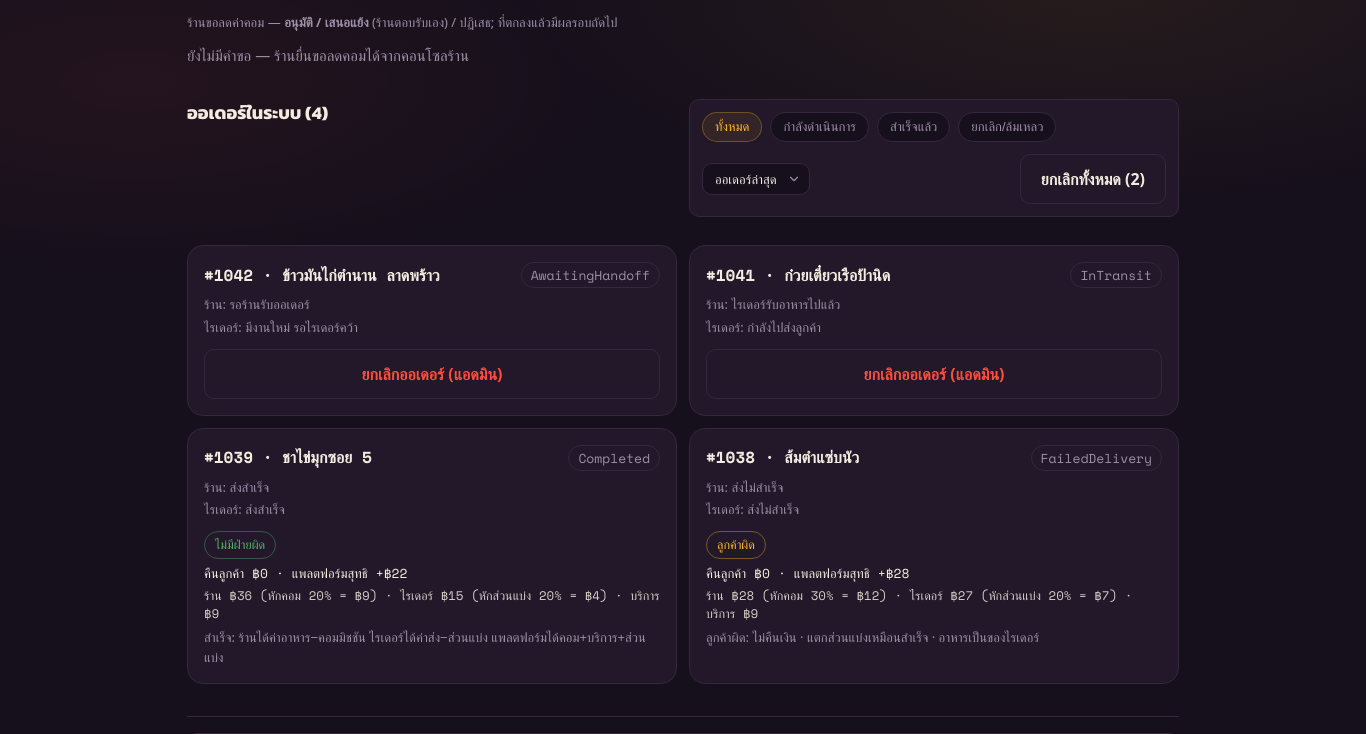
Admin — หลายออเดอร์ + suspend + force-cancel › force-cancel: ยกเลิกออเดอร์ที่ยังดำเนินอยู่ → กลายเป็น CancelledByAdmin
The width and height of the screenshot is (1366, 734).
(page scrolled)
Click the button with aria-label "ยกเลิกออเดอร์ #1042" at (432, 374), box top-left (204, 349), bottom-right (660, 399)
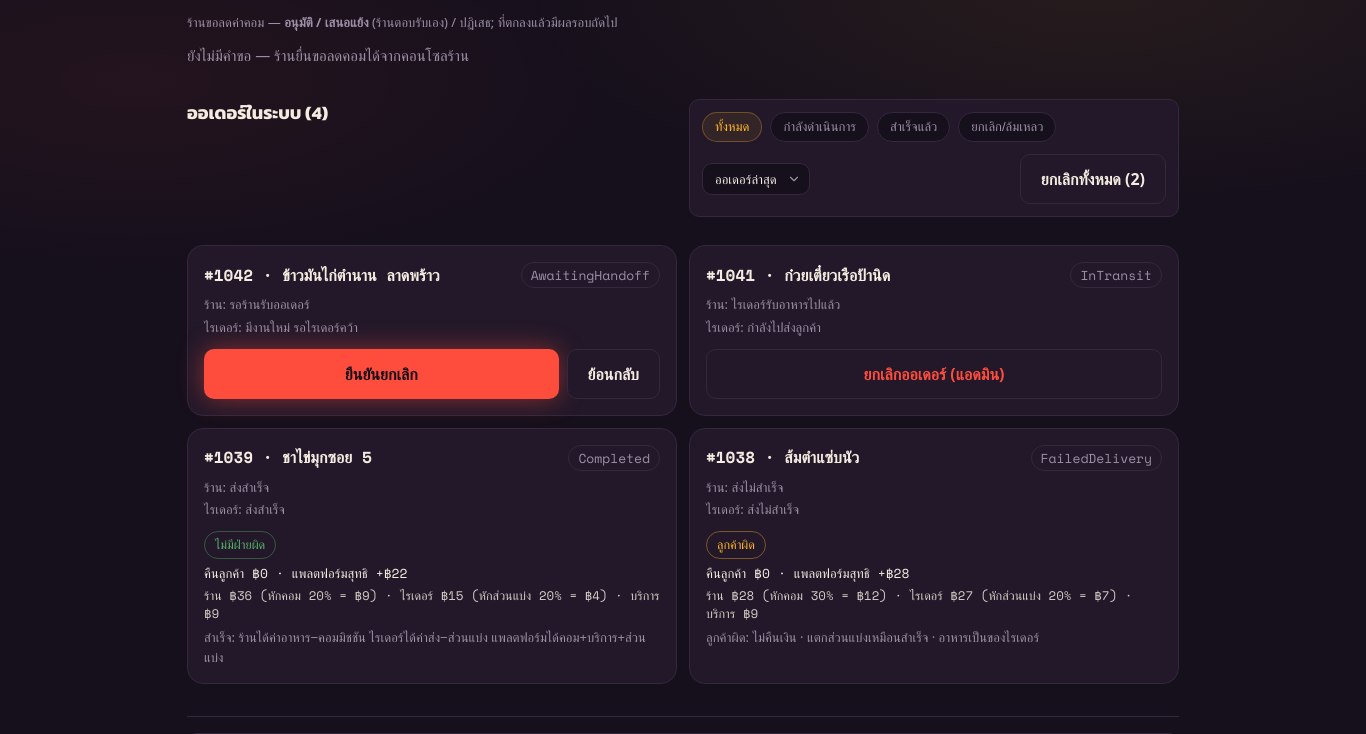
// ยืนยัน inline สองจังหวะ: กดครั้งแรกยังไม่ทำจริง — ต้องกด "ยืนยัน"
Click the button with aria-label "ยืนยันยกเลิกออเดอร์ #1042" at (381, 374), box top-left (204, 349), bottom-right (559, 399)
(page scrolled)
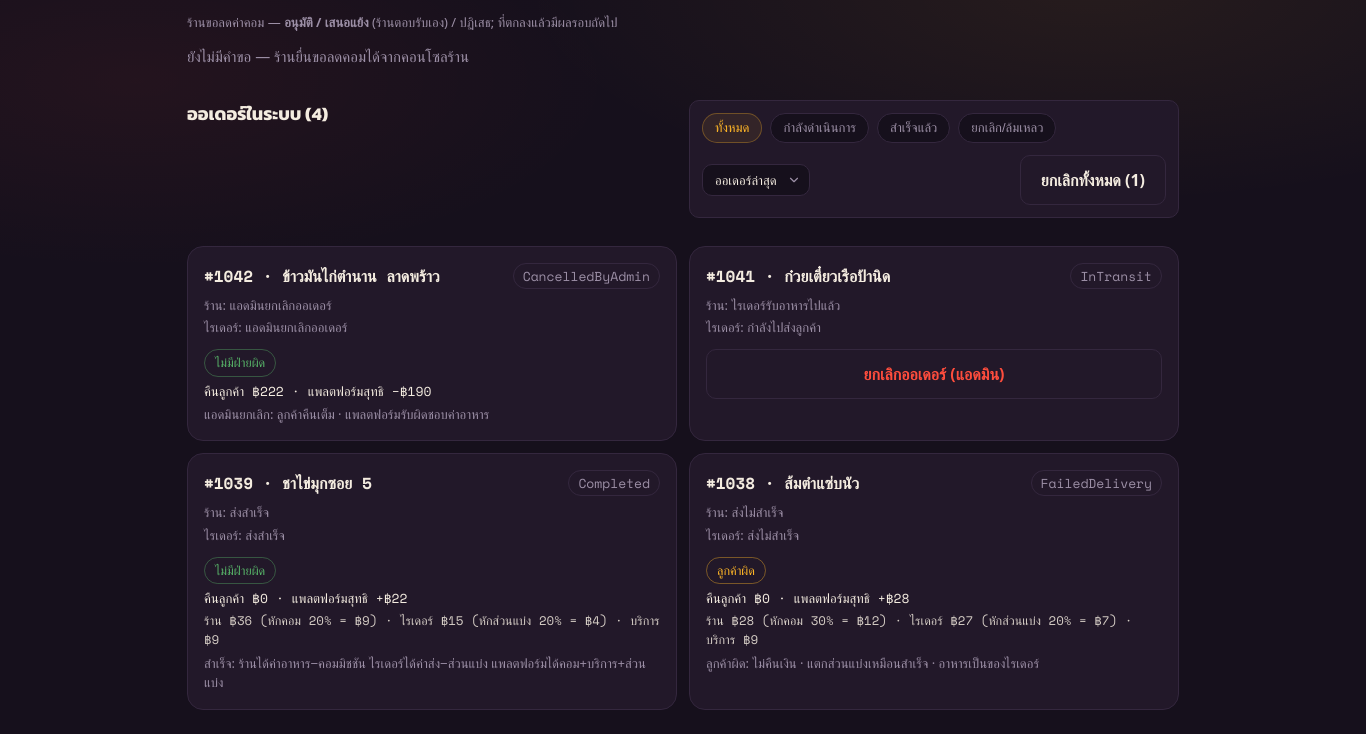
Expected: the text "CancelledByAdmin" is shown, top-left (513, 263), bottom-right (660, 289)
